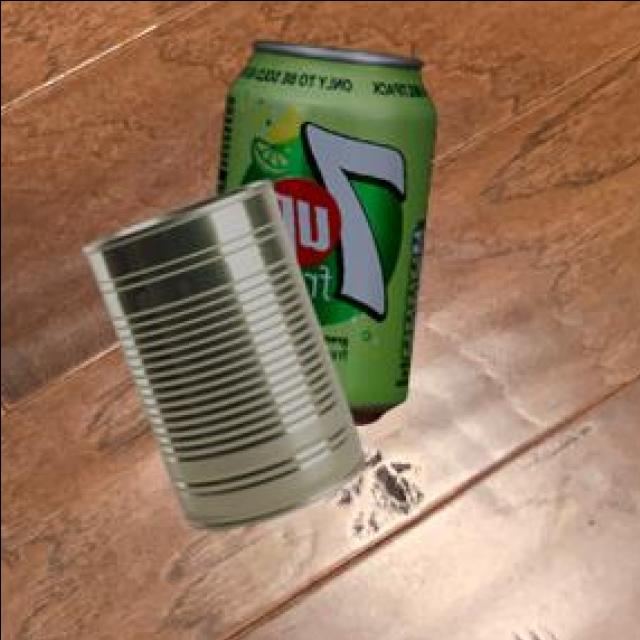logam: (86, 178, 366, 525), (220, 37, 437, 420)
